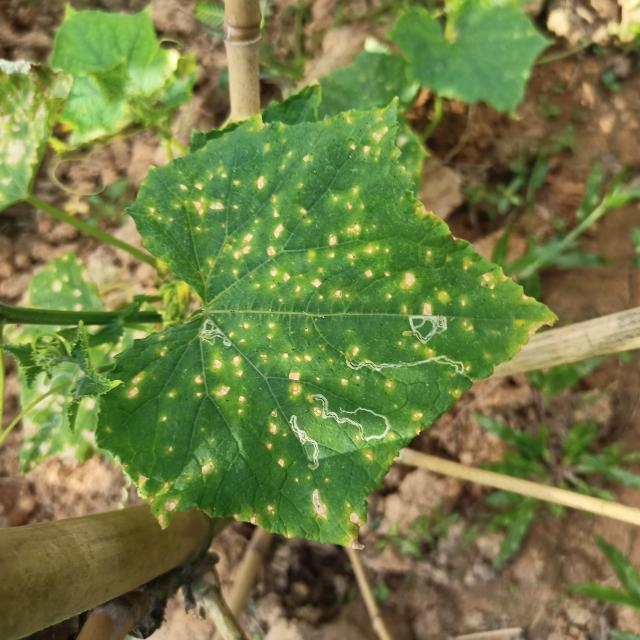disease_cucumber: (150, 133, 514, 318), (154, 345, 251, 424), (230, 320, 310, 402), (130, 460, 226, 521), (305, 484, 368, 544), (264, 418, 290, 472), (125, 367, 152, 411), (396, 341, 436, 356), (338, 374, 363, 388)
